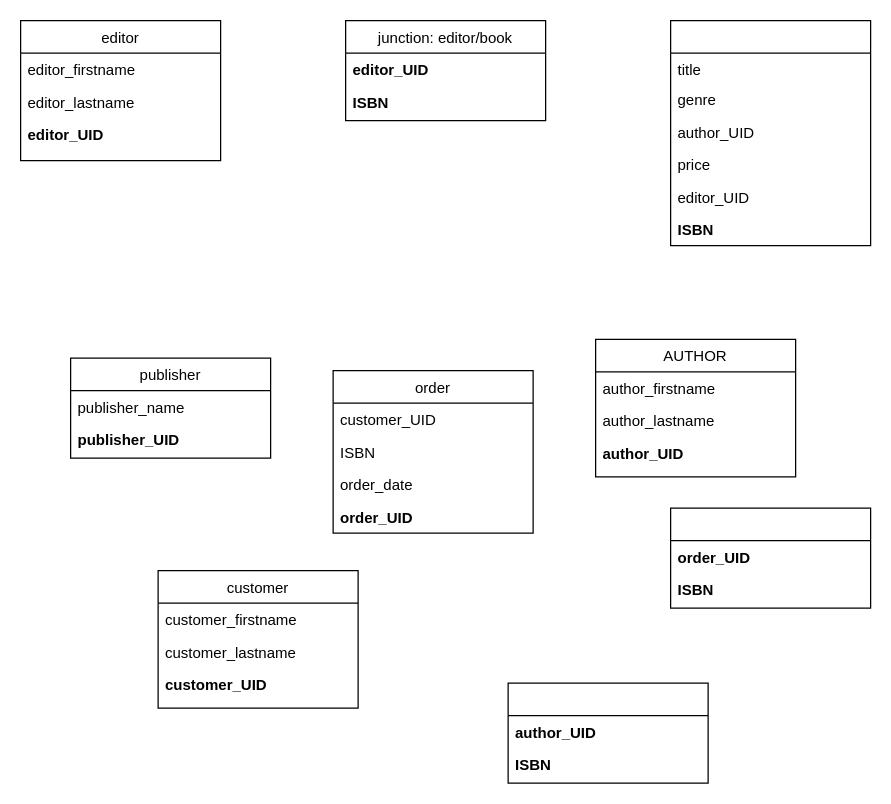
Image size: 891x804. Some labels were removed from this diagram. Here are the shapes that lost their labels. From the top down, the box of each, then its label:
(669, 19, 871, 246): book
(669, 507, 871, 608): junction: order/book
(507, 682, 708, 783): junction: author/book
